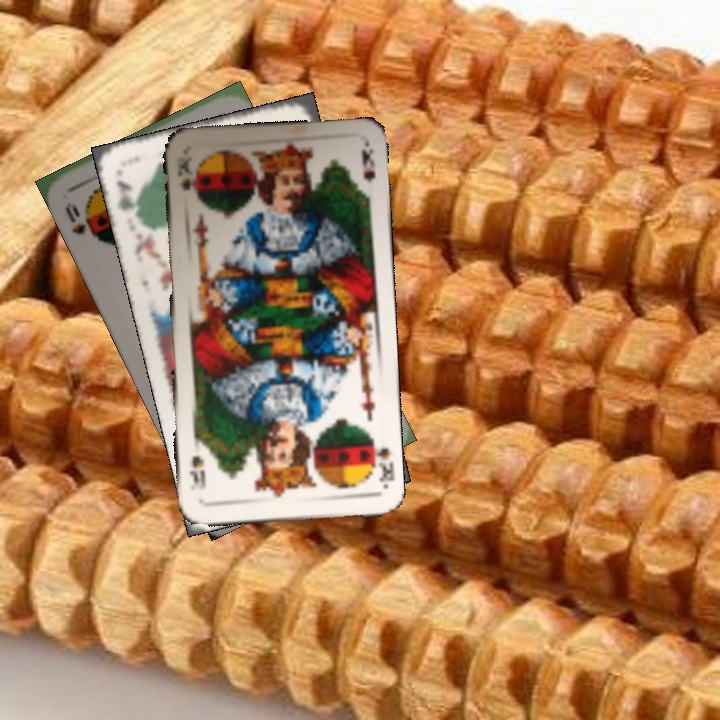GK: (111, 175, 136, 213)
SK: (366, 433, 395, 491), (173, 157, 195, 195)
SO: (61, 198, 88, 237)
